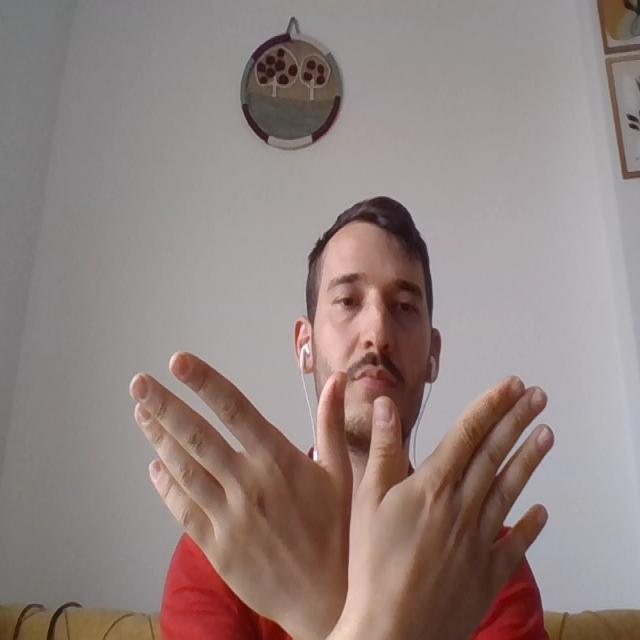thanks: (158, 358, 533, 612)
